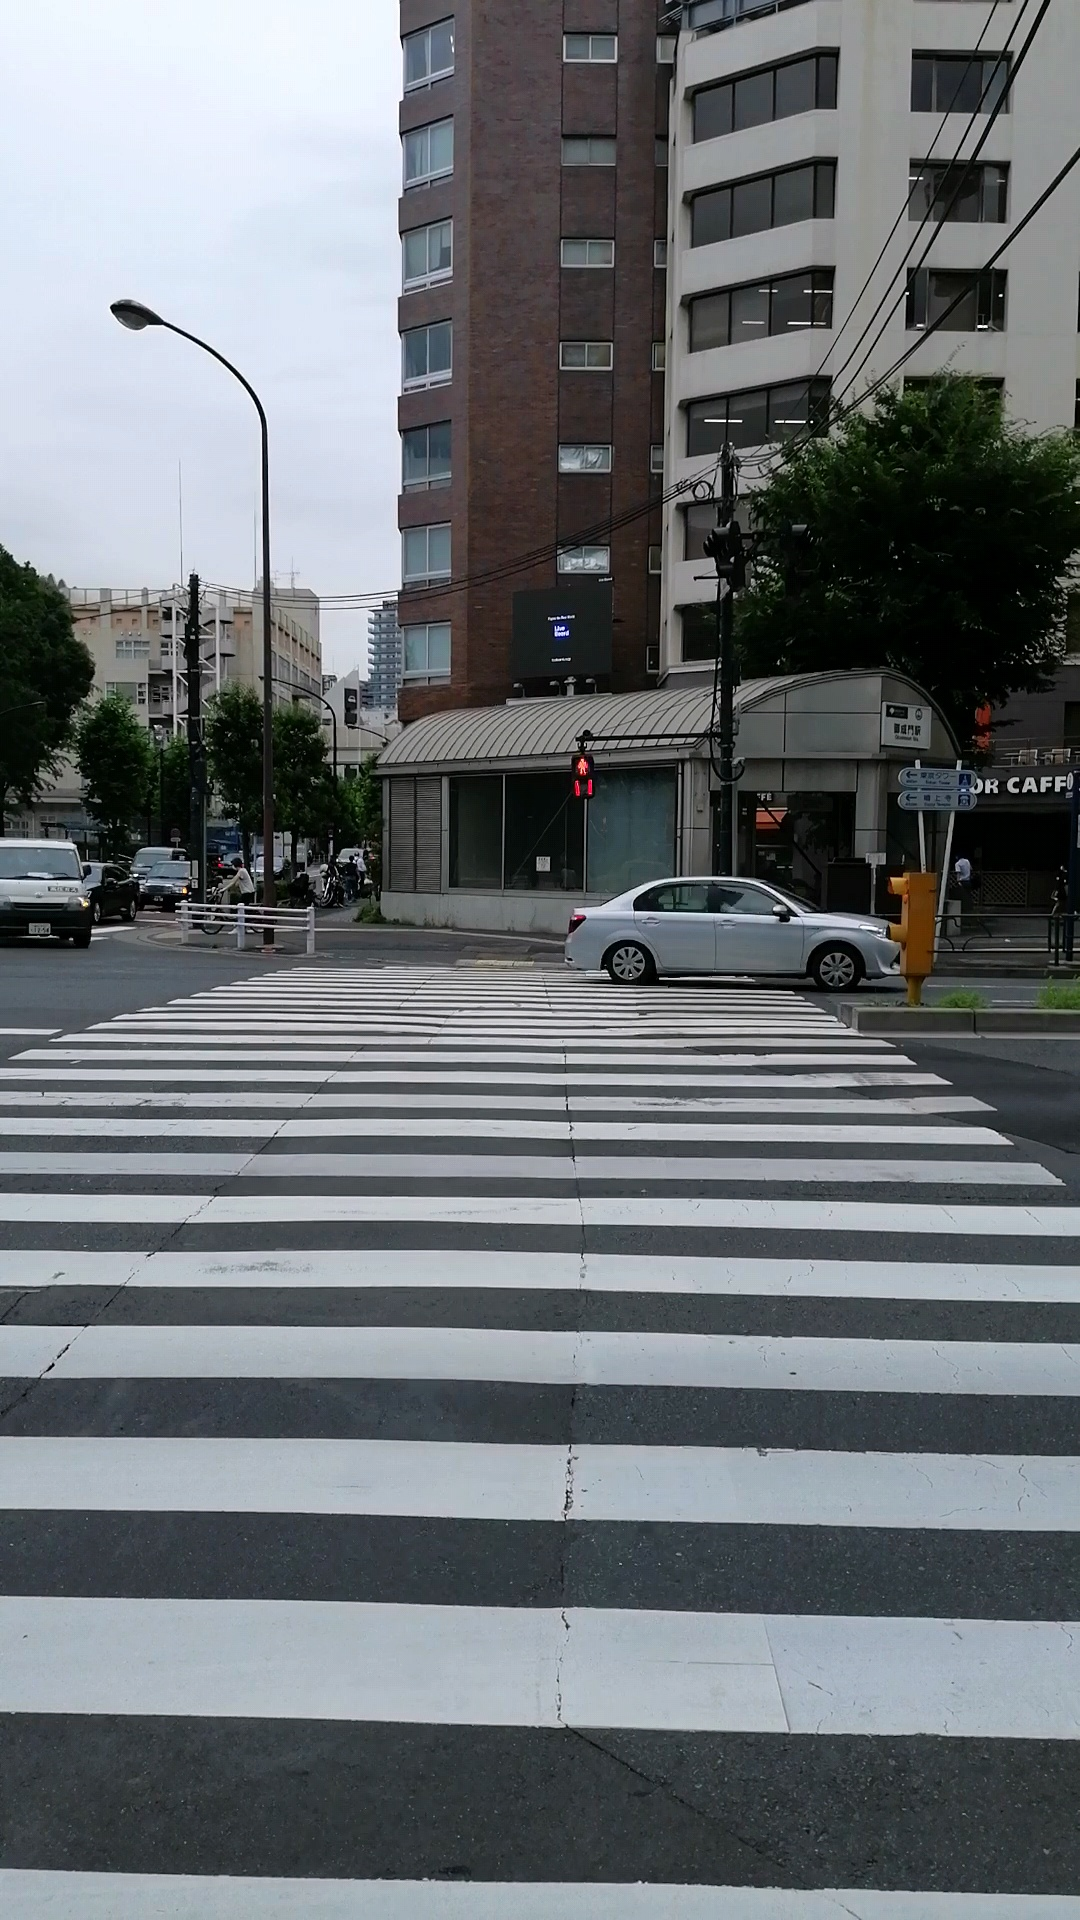red: (570, 753, 596, 799)
